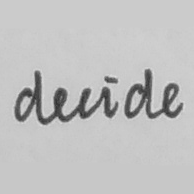c: (74, 85, 96, 123)
d: (12, 68, 46, 126), (123, 66, 155, 122)
e: (159, 80, 185, 120), (50, 85, 71, 126)
i: (97, 71, 120, 119)
